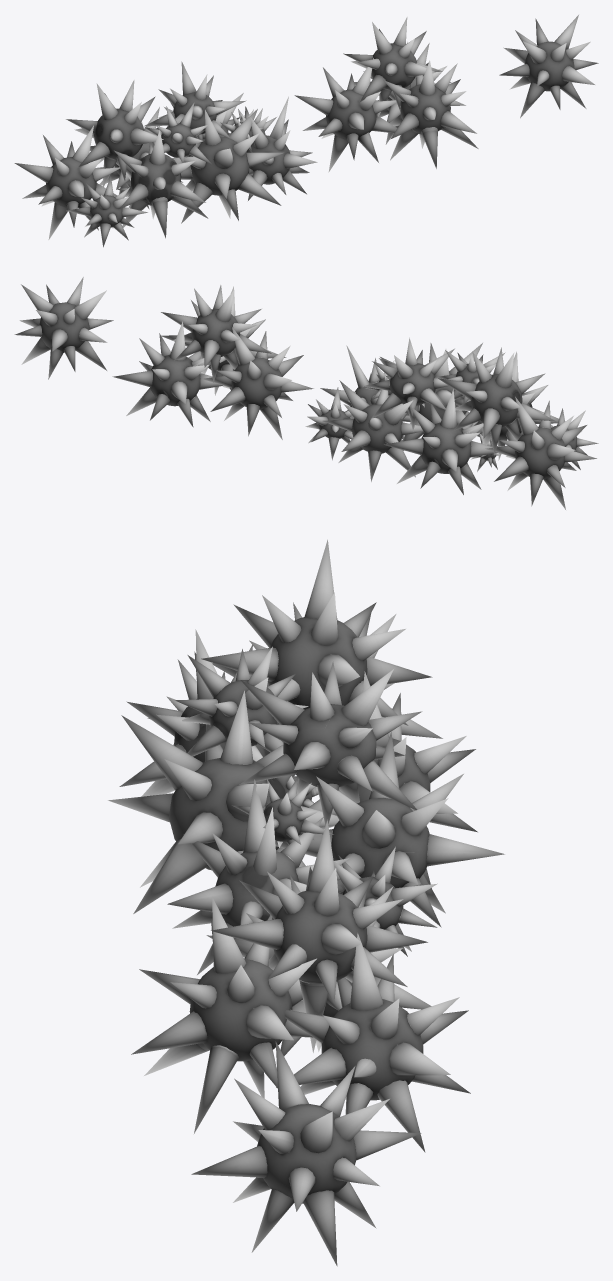
Rendered from spikeball_obstacles.glb.
3 renders of one model, top to bottom at view 1: azimuth 30°, elevation 25°; view 2: azimuth 150°, elevation 25°; view 3: azimuth 270°, elevation 25°, orthographic. The views are drawn at different scales.
Visible parts, largest first — view 1: spikeBallLarge, spikeBallSmall, spikeBallSingle; view 2: spikeBallLarge, spikeBallSmall, spikeBallSingle; view 3: spikeBallLarge, spikeBallSmall, spikeBallSingle.
Boxes of the visible parts, x1,y1,x2,y2 form: spikeBallLarge: (14,61,317,247); spikeBallSmall: (294,17,478,172); spikeBallSingle: (499,15,598,118); spikeBallLarge: (305,337,598,509); spikeBallSmall: (112,285,313,439); spikeBallSingle: (14,277,113,379); spikeBallLarge: (108,539,504,974); spikeBallSmall: (131,819,470,1152); spikeBallSingle: (191,1041,421,1266).
Size of the model in its own units: 2.89 by 0.7154 by 0.8793.
1 material, 1 textured.
